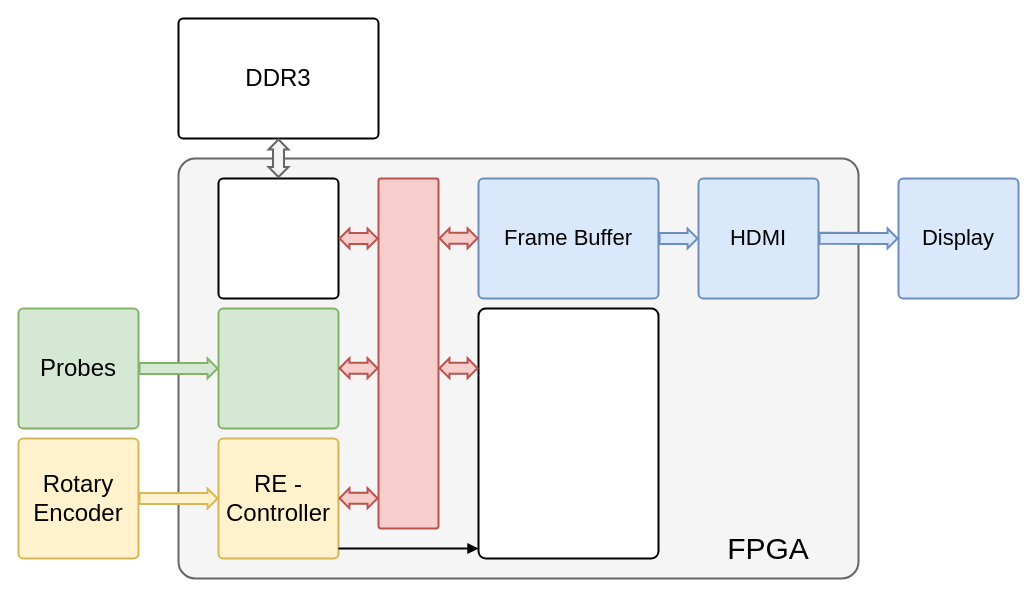
The diagram is 1036 pixels wide and 596 high, and some of its shapes have lost their labels. Here are the shapes that lost their labels. From the top down, the centre of each, then its label:
the point at 278,238: DDR3 Controller
the point at 278,368: XADC
the point at 408,353: AXI Interconnect
the point at 568,433: Microblaze
